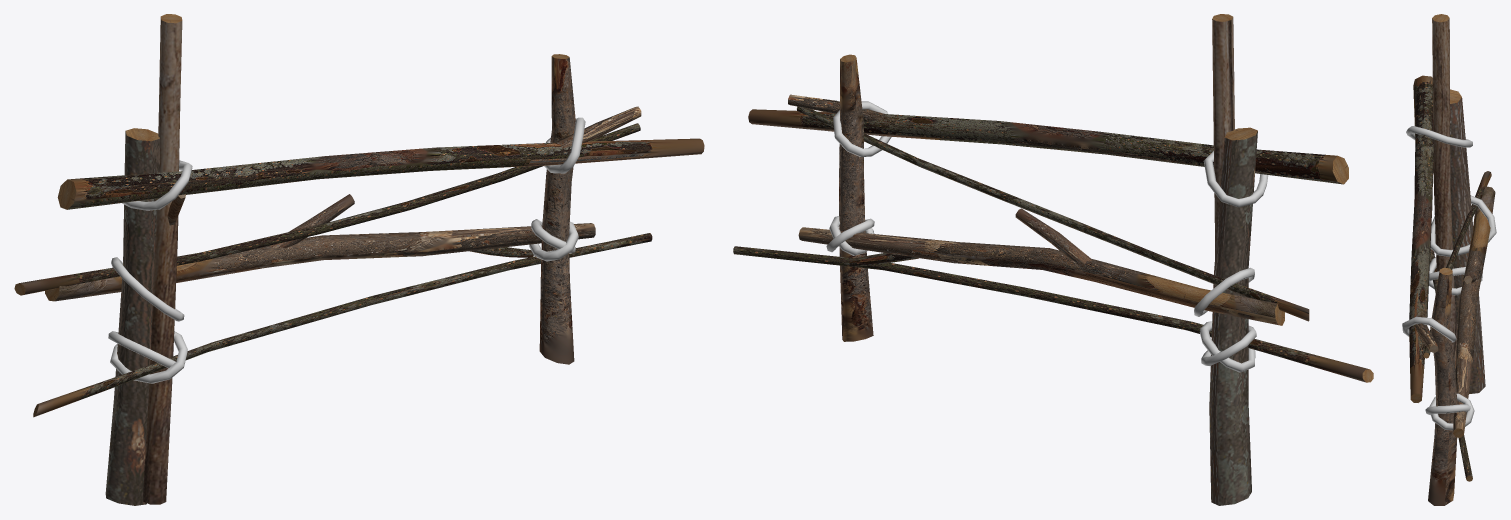
File: village_wood_fence_02.fbx
3 views of the same model, side by side, from view 1: azimuth 30°, elevation 25°; view 2: azimuth 150°, elevation 25°; view 3: azimuth 270°, elevation 25° (orthographic). The views are drawn at different scales.
Visible parts, largest first — view 1: village_wood_fence_02; view 2: village_wood_fence_02; view 3: village_wood_fence_02.
Part boxes in pixels (box(x1,y1,x2,y2)): village_wood_fence_02: box(14, 14, 704, 505); village_wood_fence_02: box(733, 14, 1373, 505); village_wood_fence_02: box(1402, 14, 1496, 505).
Size of the model in its own units: 301 by 214 by 48.12.
